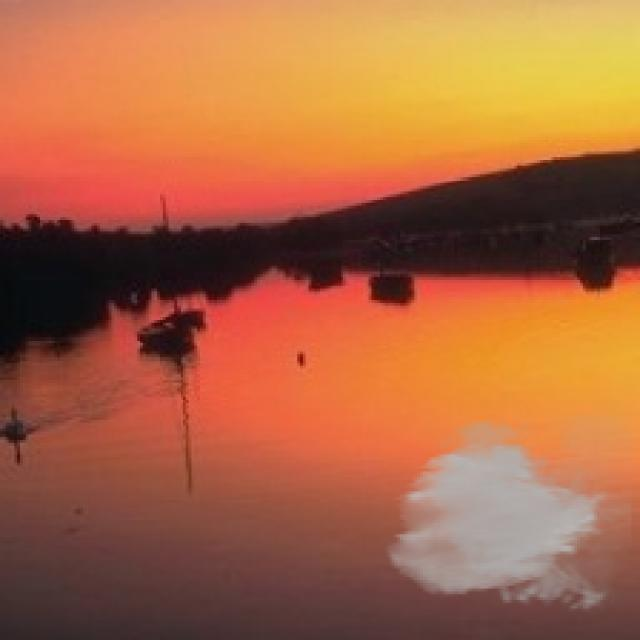Smoke: (383, 414, 631, 617)
